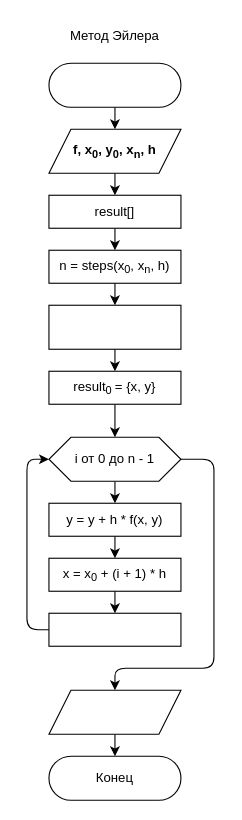
Some shapes in this 242 by 820 pixel diagram are drawn without their labels. Here are the shapes that lost their labels. From the top down, the box of each, then its label:
(48, 62, 181, 107): Начало
(48, 304, 181, 349): x = x 0 y = y 0
(48, 612, 181, 646): result i+1 = {x, y}
(48, 689, 181, 734): result
